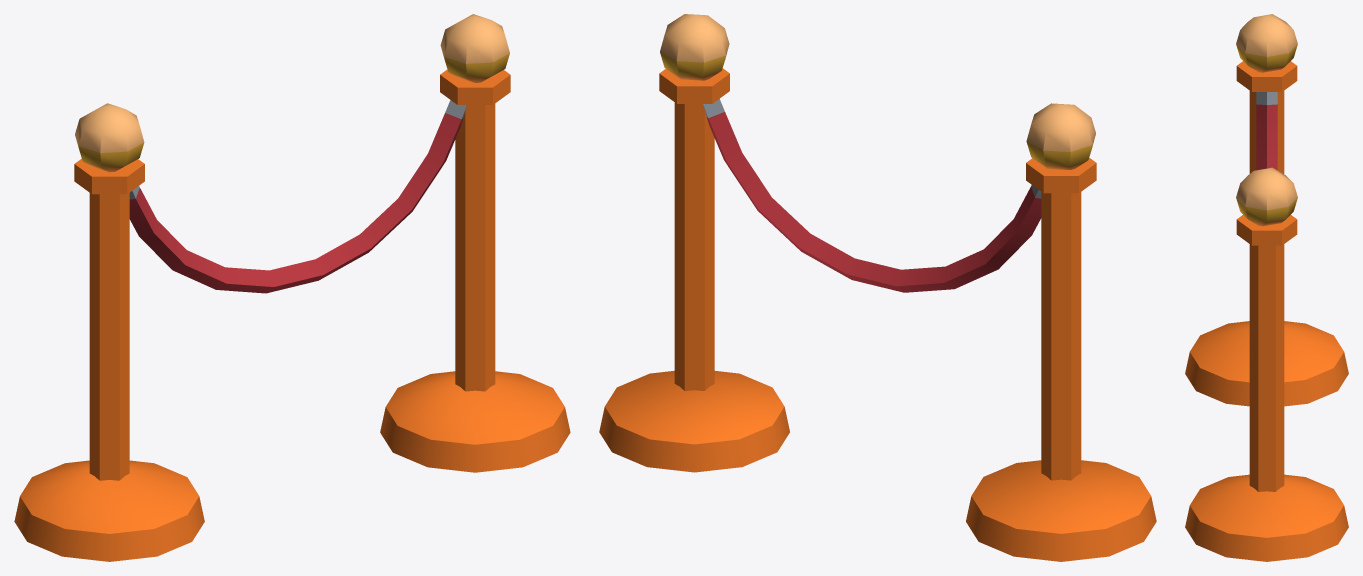
File: divisoria_corda_curta_pacote.glb
The picture shows the model from 3 angles, left to right: view 1: azimuth 30°, elevation 25°; view 2: azimuth 150°, elevation 25°; view 3: azimuth 270°, elevation 25°; orthographic projection. The views are drawn at different scales.
Visible parts, largest first — view 1: divisoria_corda_curta_pacote; view 2: divisoria_corda_curta_pacote; view 3: divisoria_corda_curta_pacote.
Boxes of the visible parts, box(x1,y1,x2,y2) form: divisoria_corda_curta_pacote: box(14, 14, 570, 561); divisoria_corda_curta_pacote: box(599, 14, 1156, 561); divisoria_corda_curta_pacote: box(1185, 14, 1348, 561).
Size of the model in its own units: 1.37 by 1.02 by 0.4254.
1 material, 1 textured.
